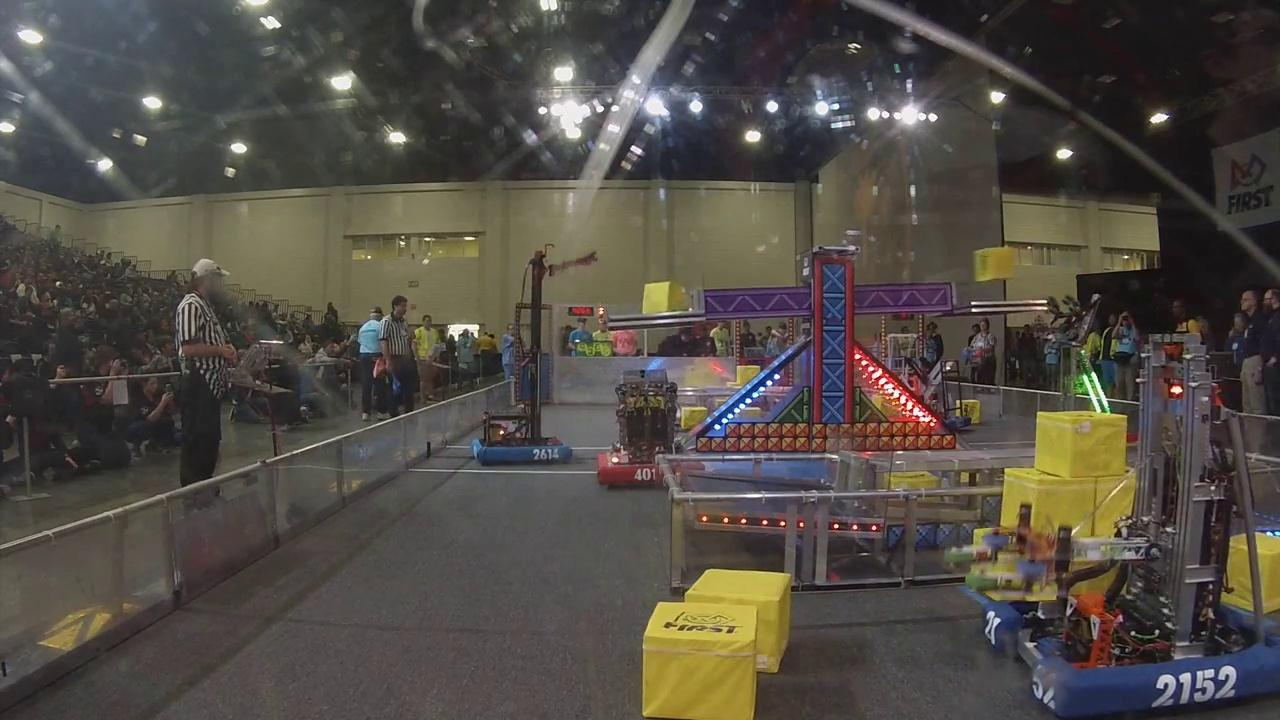robot: (953, 324, 1280, 720), (473, 248, 578, 467), (593, 368, 708, 489)
